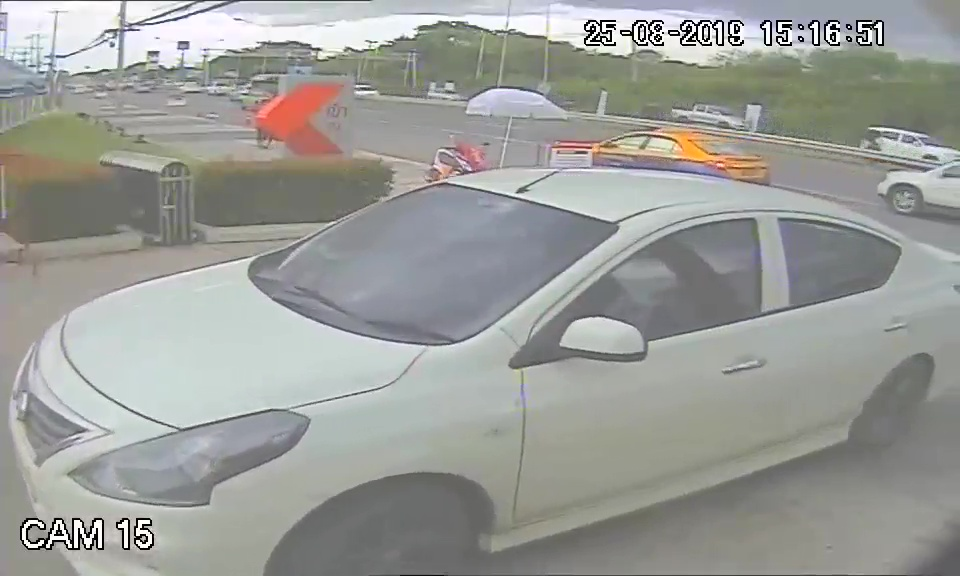sedan: (14, 145, 756, 570)
